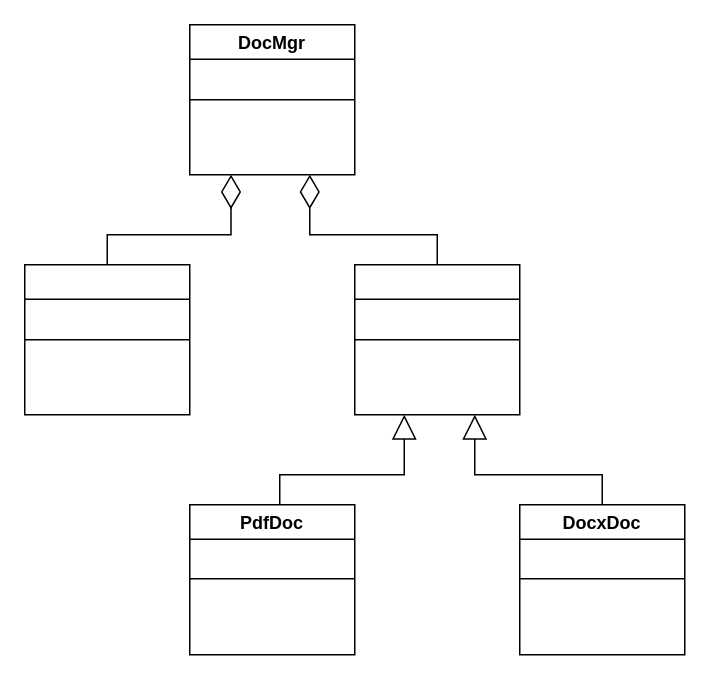
The diagram is 710 pixels wide and 680 high, and some of its shapes have lost their labels. Here are the shapes that lost their labels. From the top down, the centre of each, then its label:
At point (106, 339): "Gui".
At point (436, 339): "Document".
